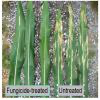Corn leaf blight: (77, 2, 93, 84), (64, 1, 78, 85), (52, 4, 65, 87)
